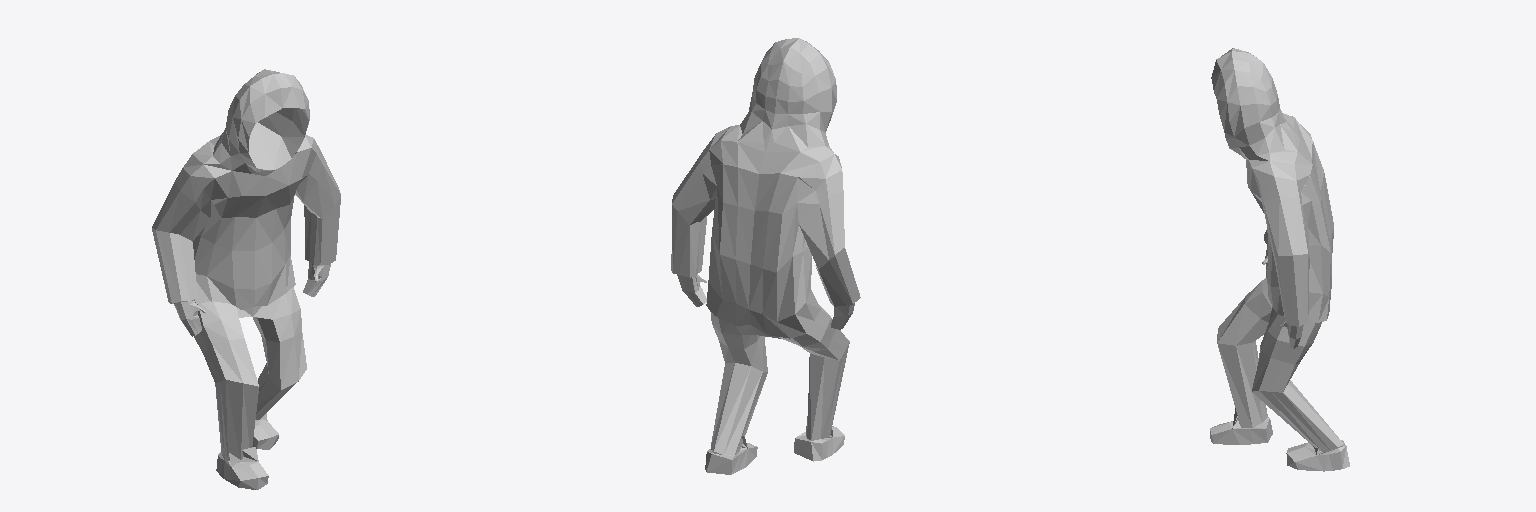
The model's file is Shadowmanv_000030.obj.
The picture shows the model from 3 angles: view 1: azimuth 30°, elevation 25°; view 2: azimuth 150°, elevation 25°; view 3: azimuth 270°, elevation 25°; orthographic projection.
Parts seen in each view (by area): view 1: Cube.000; view 2: Cube.000; view 3: Cube.000.
Part boxes in pixels (x1,y1,x2,y2): Cube.000: (152,69,340,489); Cube.000: (671,38,860,474); Cube.000: (1210,48,1349,471).
Size of the model in its own units: 5.01 by 10.9 by 3.44.